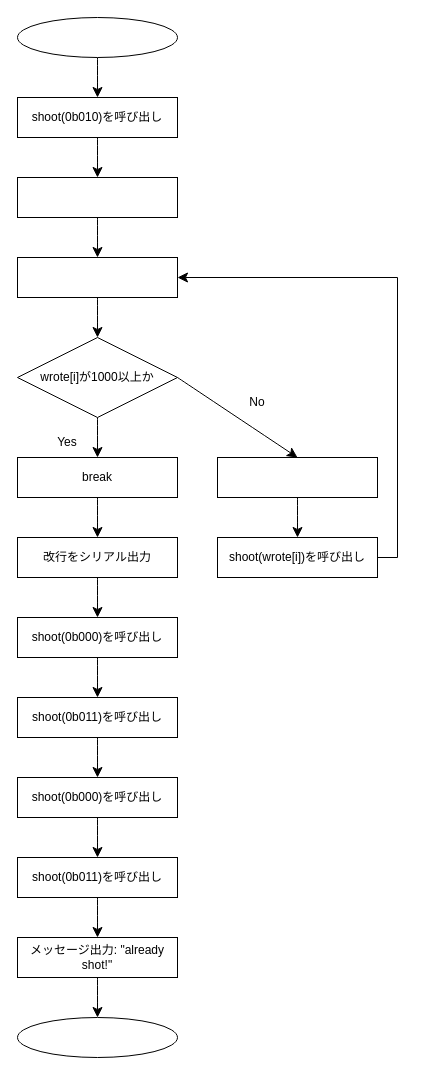
Image size: 425x1075. Some labels were removed from this diagram. Here are the shapes that lost their labels. From the top down, the centre of each, then its label:
At [97,37]: "開始".
At [97,197]: "combine()を呼び出し".
At [97,277]: "1000回ループ".
At [297,477]: "asciiTable[wrote[i]] をシリアル出力".
At [97,1037]: "終了".
